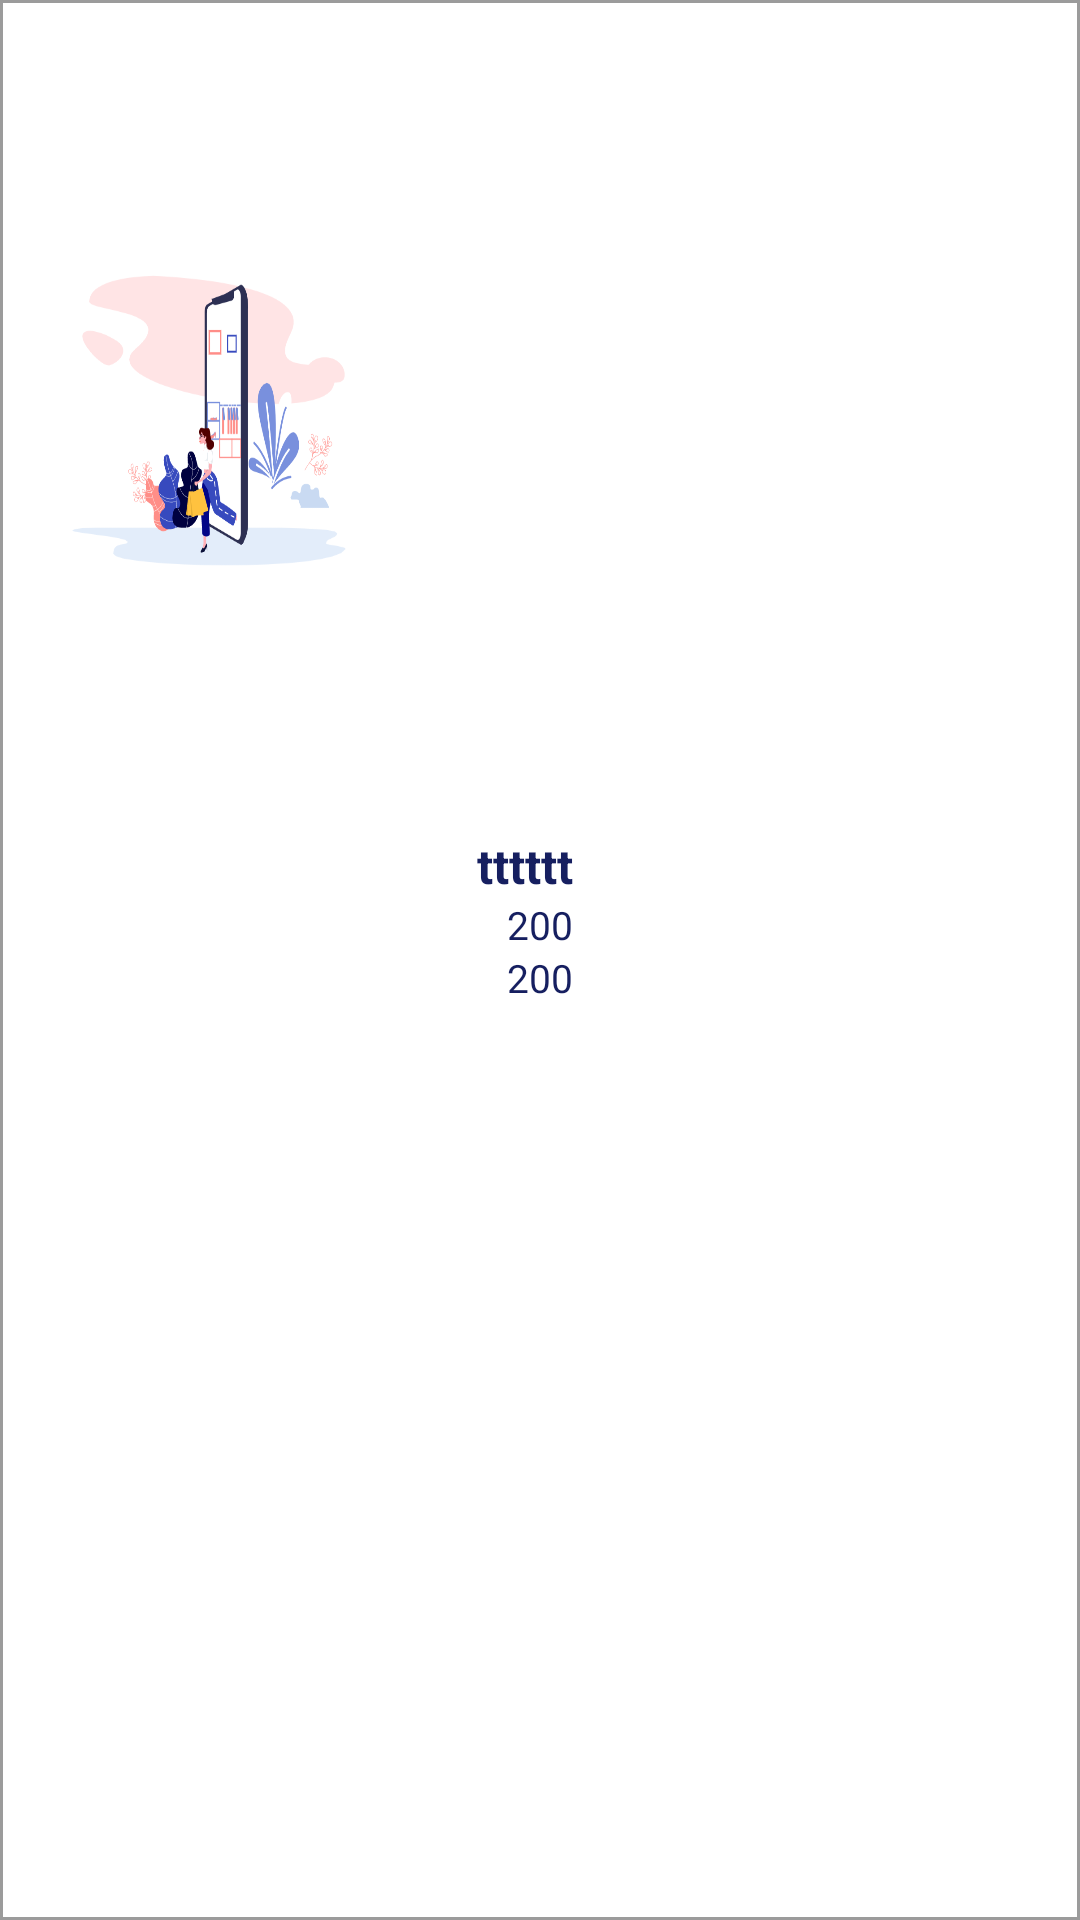

Where icons sit on this 1080×1920 app screen, as (x1=x1, y1=y1, x2=x2, y2=y2):
seeshop: (x1=73, y1=276, x2=345, y2=565)
